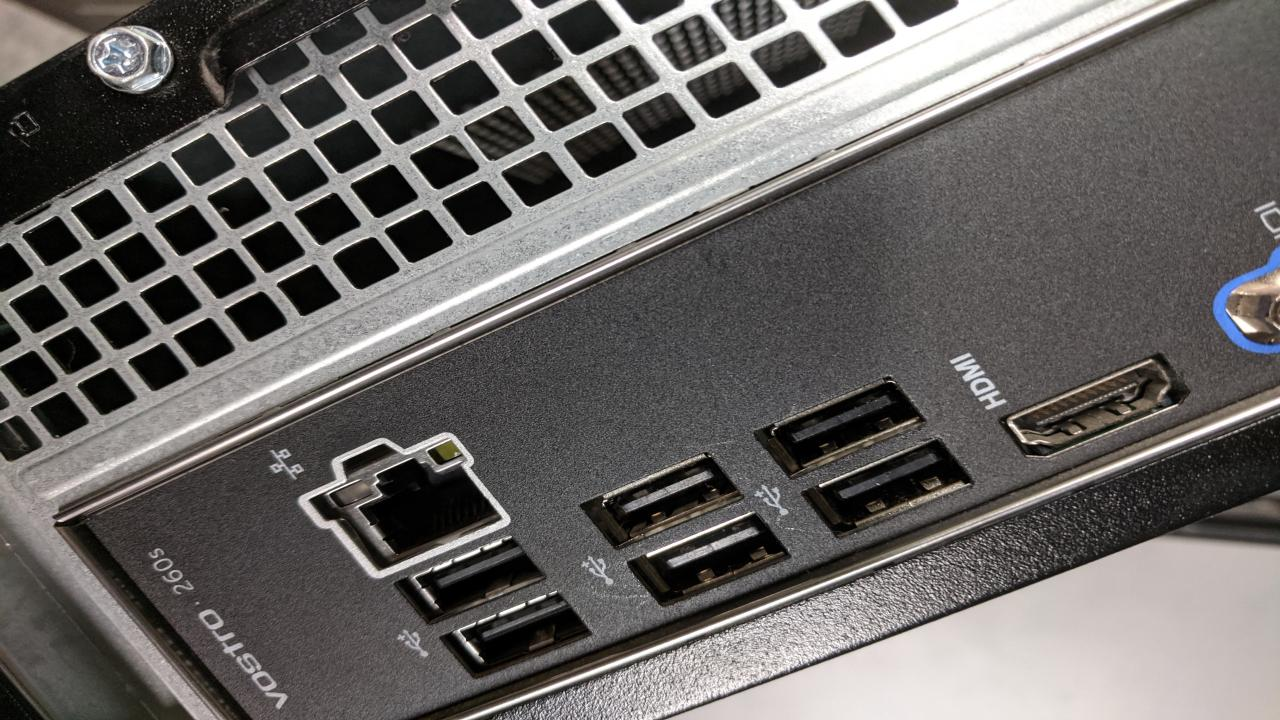CRS: (83, 31, 165, 85)
